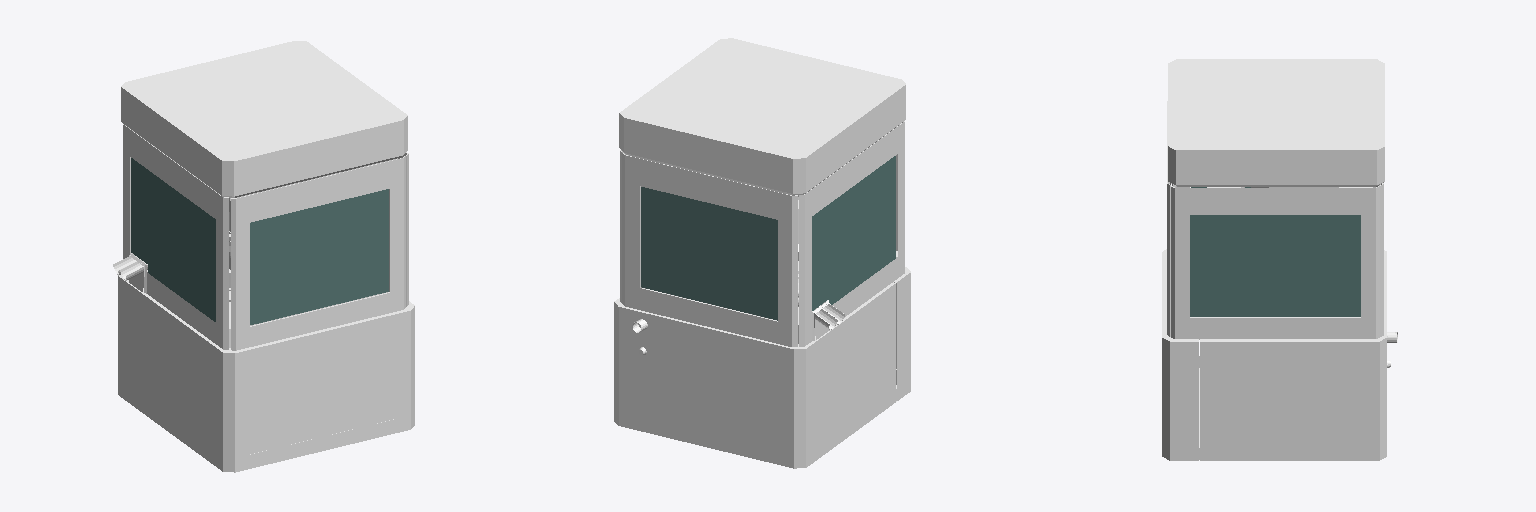
The model's file is fette.obj.
3 views of the same model, side by side, from view 1: azimuth 30°, elevation 25°; view 2: azimuth 150°, elevation 25°; view 3: azimuth 270°, elevation 25° (orthographic).
Parts seen in each view (by area): view 1: StaticMeshActor_143_StaticMeshComponent0, StaticMeshActor_95_StaticMeshComponent0, StaticMeshActor_107_StaticMeshComponent0, StaticMeshActor_87_StaticMeshComponent0, StaticMeshActor_104_StaticMeshComponent0, StaticMeshActor_88_StaticMeshComponent0, StaticMeshActor_102_StaticMeshComponent0; view 2: StaticMeshActor_143_StaticMeshComponent0, StaticMeshActor_95_StaticMeshComponent0, StaticMeshActor_105_StaticMeshComponent0, StaticMeshActor_97_StaticMeshComponent0, StaticMeshActor_104_StaticMeshComponent0, StaticMeshActor_88_StaticMeshComponent0; view 3: StaticMeshActor_143_StaticMeshComponent0, StaticMeshActor_95_StaticMeshComponent0, StaticMeshActor_106_StaticMeshComponent0, StaticMeshActor_91_StaticMeshComponent0, StaticMeshActor_87_StaticMeshComponent0, StaticMeshActor_97_StaticMeshComponent0.
Boxes of the visible parts, <box> form: StaticMeshActor_143_StaticMeshComponent0: <box>118,274,414,472</box>; StaticMeshActor_95_StaticMeshComponent0: <box>121,41,407,197</box>; StaticMeshActor_107_StaticMeshComponent0: <box>250,189,388,324</box>; StaticMeshActor_87_StaticMeshComponent0: <box>231,156,405,350</box>; StaticMeshActor_104_StaticMeshComponent0: <box>131,158,215,321</box>; StaticMeshActor_88_StaticMeshComponent0: <box>123,124,228,349</box>; StaticMeshActor_102_StaticMeshComponent0: <box>241,417,403,470</box>; StaticMeshActor_143_StaticMeshComponent0: <box>614,267,910,468</box>; StaticMeshActor_95_StaticMeshComponent0: <box>619,38,905,194</box>; StaticMeshActor_105_StaticMeshComponent0: <box>641,187,777,320</box>; StaticMeshActor_97_StaticMeshComponent0: <box>622,153,797,346</box>; StaticMeshActor_104_StaticMeshComponent0: <box>812,156,895,310</box>; StaticMeshActor_88_StaticMeshComponent0: <box>799,121,904,346</box>; StaticMeshActor_143_StaticMeshComponent0: <box>1162,249,1386,460</box>; StaticMeshActor_95_StaticMeshComponent0: <box>1168,59,1384,186</box>; StaticMeshActor_106_StaticMeshComponent0: <box>1190,215,1360,316</box>; StaticMeshActor_91_StaticMeshComponent0: <box>1171,186,1379,339</box>; StaticMeshActor_87_StaticMeshComponent0: <box>1167,101,1170,336</box>; StaticMeshActor_97_StaticMeshComponent0: <box>1380,183,1383,336</box>.
Size of the model in its own units: 1.24 by 1.76 by 1.22.